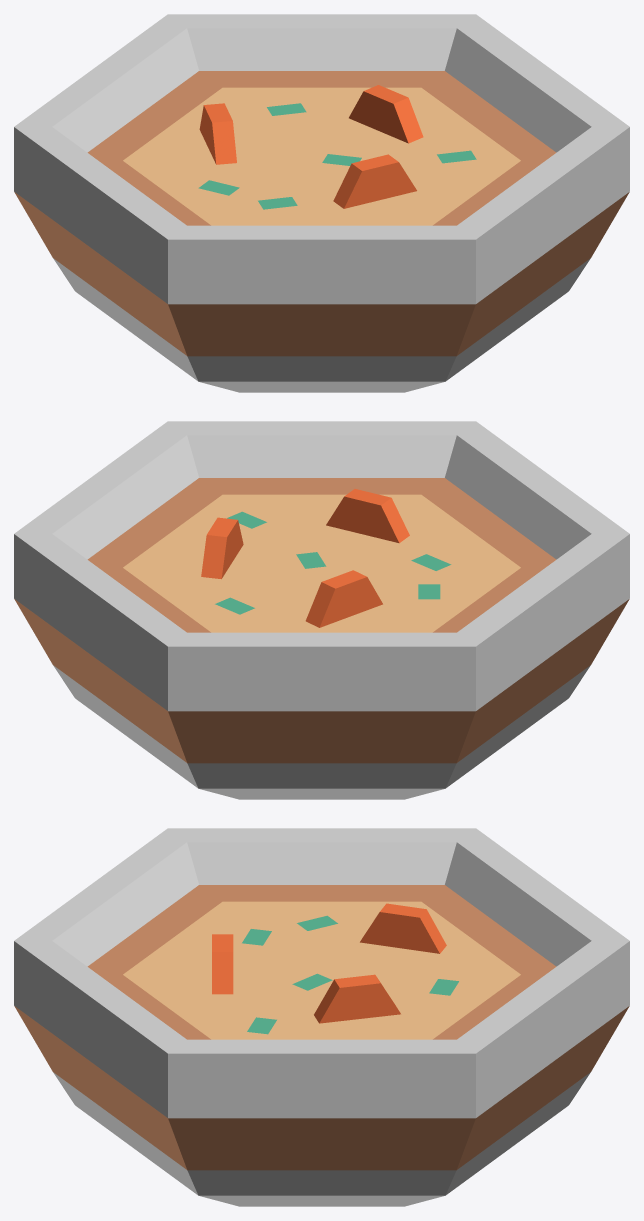
Rendered from bowlSoup.obj.
The picture shows the model from 3 angles, top to bottom: view 1: azimuth 30°, elevation 25°; view 2: azimuth 150°, elevation 25°; view 3: azimuth 270°, elevation 25°; orthographic projection.
Visible parts, largest first — view 1: bowlSoup; view 2: bowlSoup; view 3: bowlSoup.
Part boxes in pixels (box(x1,y1,x2,y2)): bowlSoup: box(14, 14, 629, 392); bowlSoup: box(14, 421, 629, 799); bowlSoup: box(14, 828, 629, 1206).
Bounding box in the file's own units: 0.5022 × 0.2138 × 0.5798.
